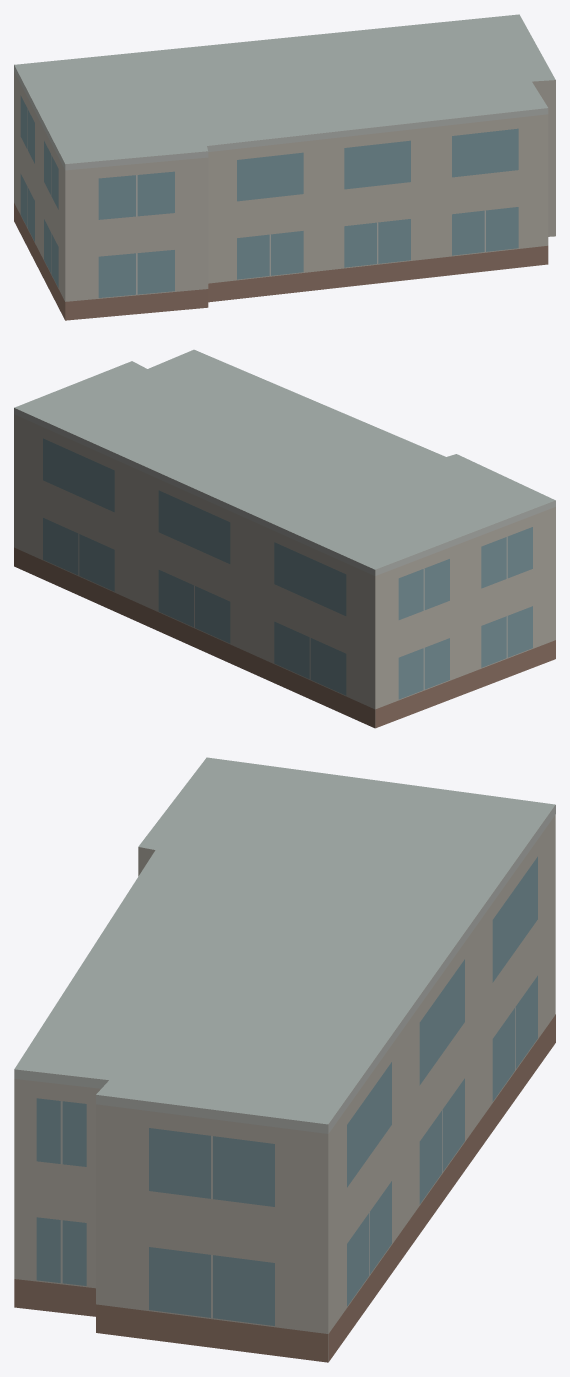
The model's file is survey-upis-32681318.glb.
3 views of the same model, one above another, from view 1: azimuth 30°, elevation 25°; view 2: azimuth 150°, elevation 25°; view 3: azimuth 270°, elevation 25° (orthographic). The views are drawn at different scales.
Parts seen in each view (by area): view 1: survey-upis-32681318.tmp; view 2: survey-upis-32681318.tmp; view 3: survey-upis-32681318.tmp.
Part boxes in pixels (bbox=[...]): survey-upis-32681318.tmp: bbox=[14, 14, 555, 320]; survey-upis-32681318.tmp: bbox=[14, 349, 555, 728]; survey-upis-32681318.tmp: bbox=[14, 757, 555, 1362].
Size of the model in its own units: 20.18 by 6.1 by 12.59.
